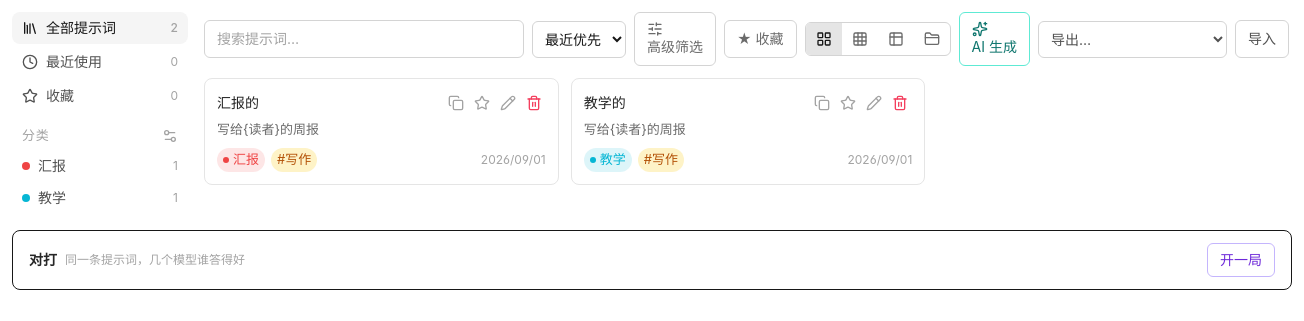
Scenario: PromptLibrary · 视图 › 文件夹视图点一个文件夹 = 按它筛（不在这里就地展开）
Expected: the button "汇报的" is shown, [217,93,440,113]
Click the button titled "文件夹" at (932, 39), box [914,23,950,55]
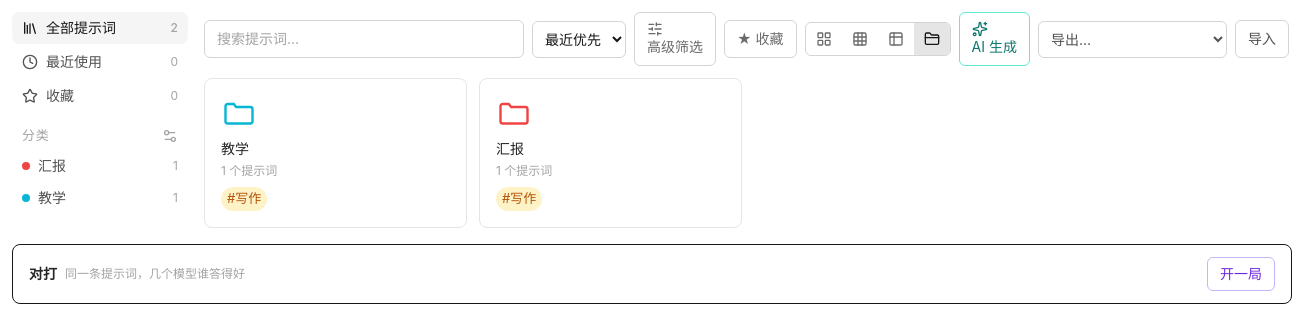
「汇报」在左导航里也有一个（那是筛选），所以**只在文件夹那一格里点**
Click the 1st text "汇报" at (510, 149), box [496,139,524,159]
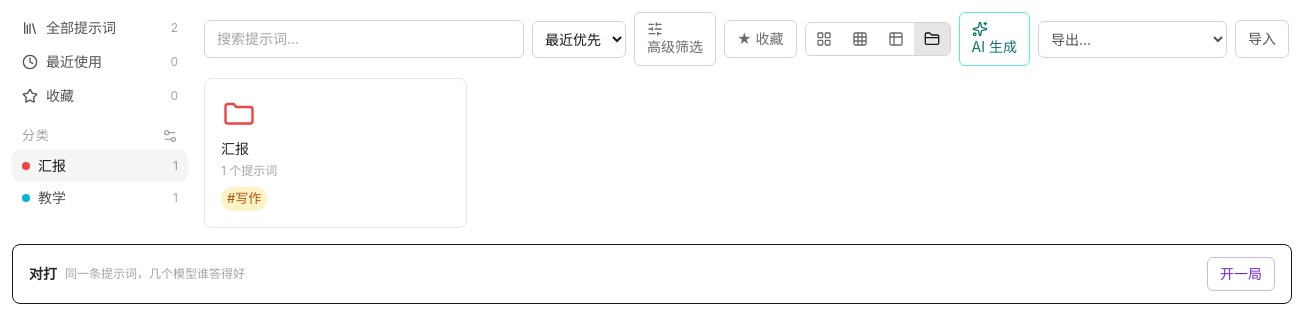
切回卡片方便断言：只剩汇报那条
Click the button titled "卡片" at (824, 39), box [806,23,842,55]
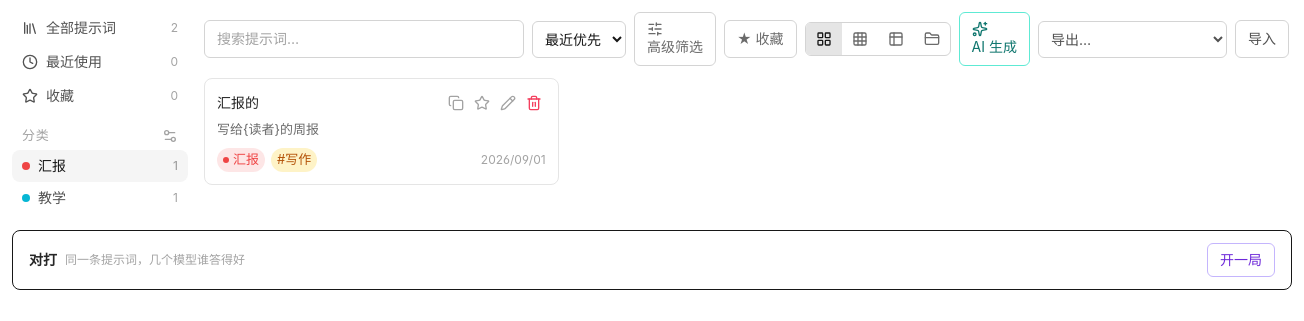
Expected: the button "教学的" is not shown
Expected: the button "汇报的" is shown, [217,93,440,113]
